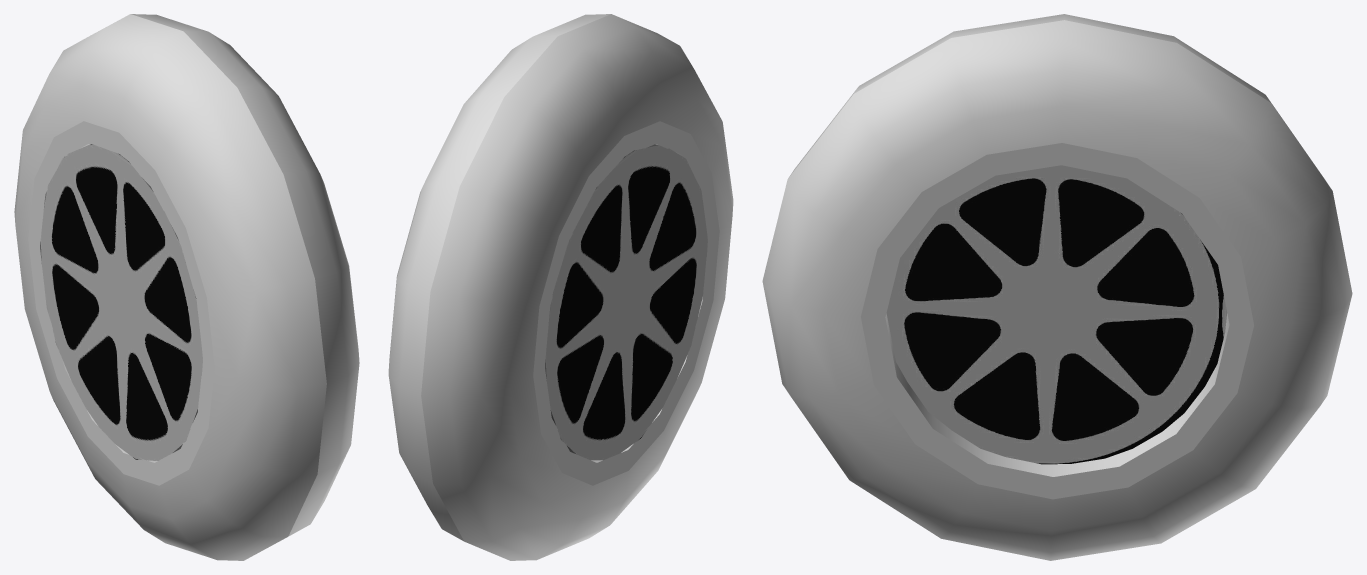
File: backWheelLeft.fbx
3 views of the same model, side by side, from view 1: azimuth 30°, elevation 25°; view 2: azimuth 150°, elevation 25°; view 3: azimuth 270°, elevation 25° (orthographic). The views are drawn at different scales.
Visible parts, largest first — view 1: backwheel; view 2: backwheel; view 3: backwheel.
Boxes of the visible parts, <box> form: backwheel: <box>14,14,359,560</box>; backwheel: <box>388,14,733,560</box>; backwheel: <box>762,14,1352,560</box>.
Size of the model in its own units: 8.03 by 29.72 by 29.72.
